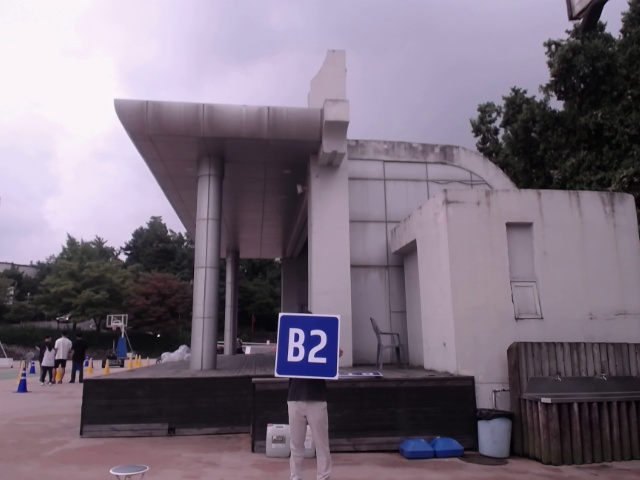delivery_b2: (278, 314, 340, 378)
